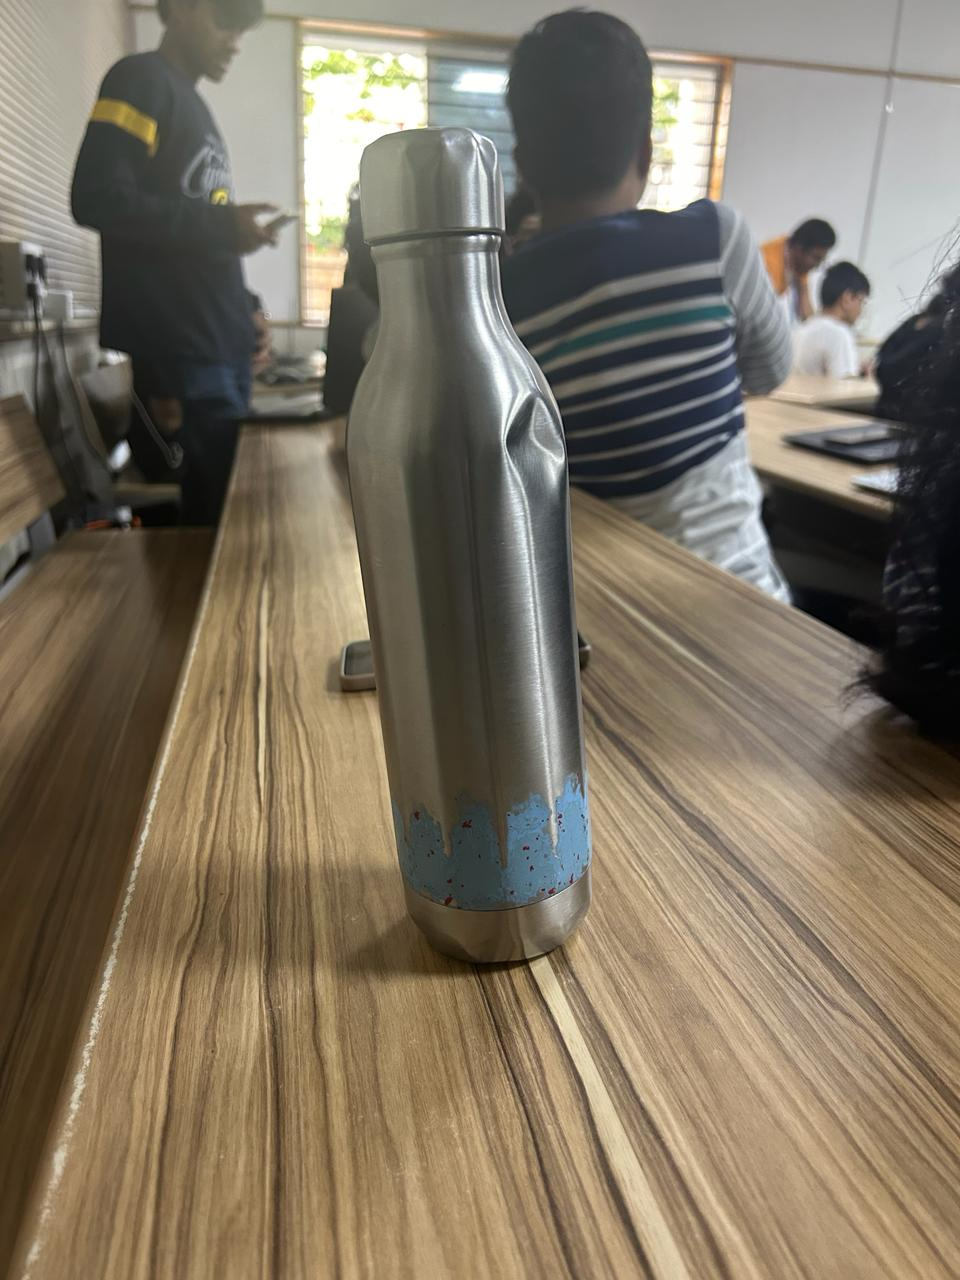bottle: (322, 115, 602, 978)
